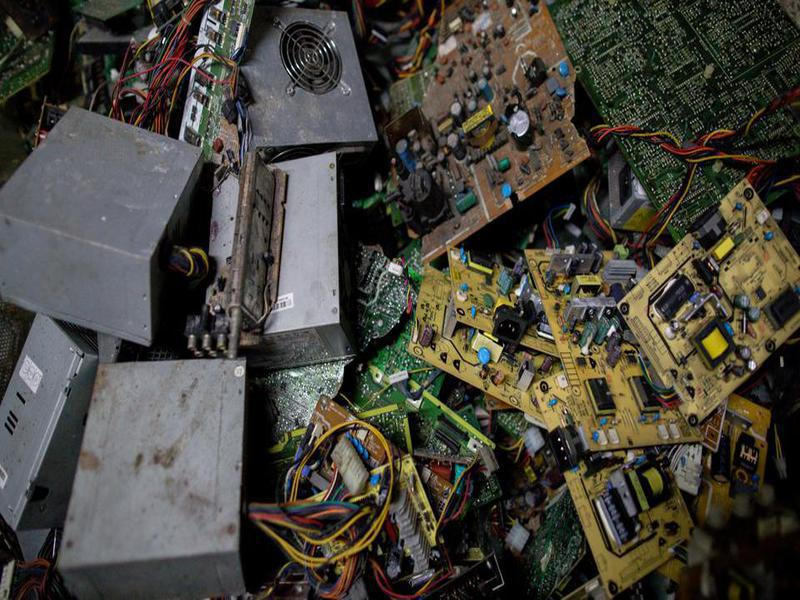circuit_board: (545, 1, 800, 243), (357, 1, 590, 258), (608, 169, 800, 424), (519, 245, 704, 449), (408, 243, 569, 431), (553, 455, 701, 592), (351, 350, 498, 463)
